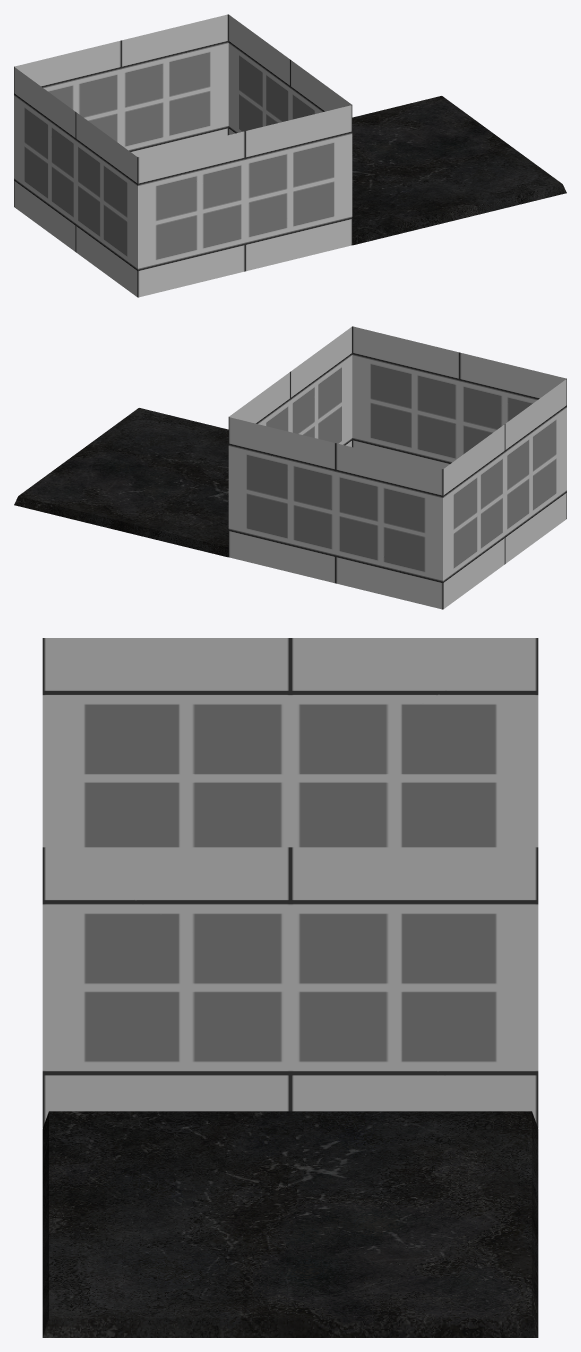
The model's file is highrise_2to1.glb.
3 renders of one model, top to bottom at view 1: azimuth 30°, elevation 25°; view 2: azimuth 150°, elevation 25°; view 3: azimuth 270°, elevation 25°, orthographic. The views are drawn at different scales.
Parts seen in each view (by area): view 1: Highrise.2to1; view 2: Highrise.2to1; view 3: Highrise.2to1.
Boxes of the visible parts, x1,y1,x2,y2 form: Highrise.2to1: (14, 14, 566, 297); Highrise.2to1: (14, 326, 566, 609); Highrise.2to1: (42, 638, 538, 1337).
Bounding box in the file's own units: 0.8 × 0.2503 × 0.4.
Materials: 1 (1 with a texture image).
